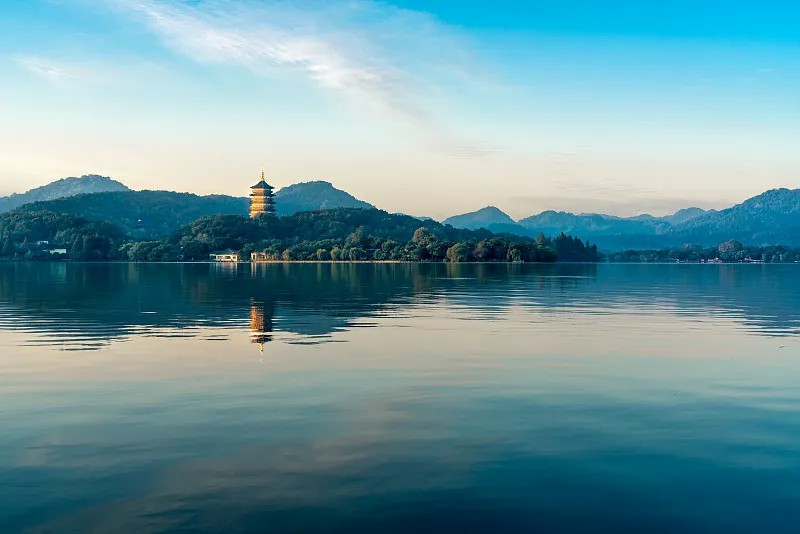Leifeng: (247, 162, 277, 217)
